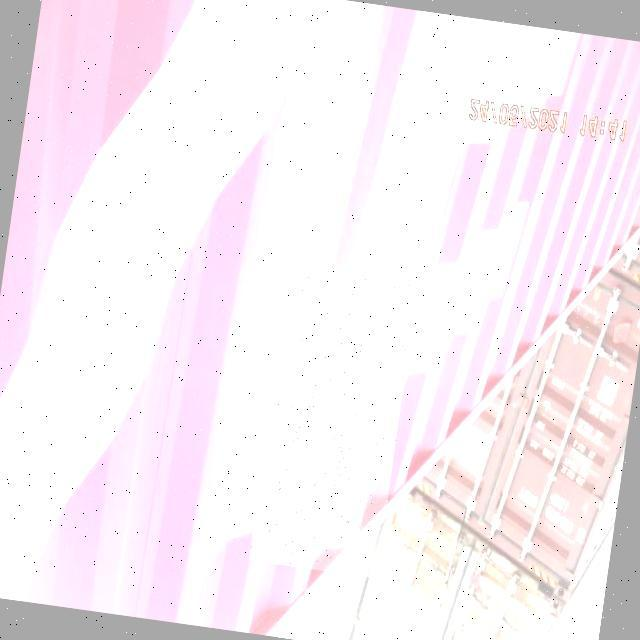Minor-Dent: (249, 259, 419, 579)
